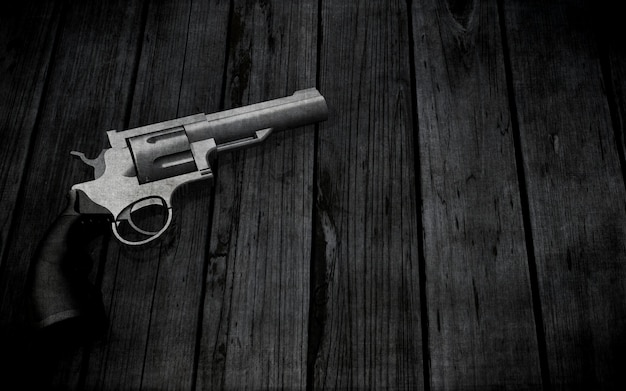gun: (29, 85, 331, 332)
